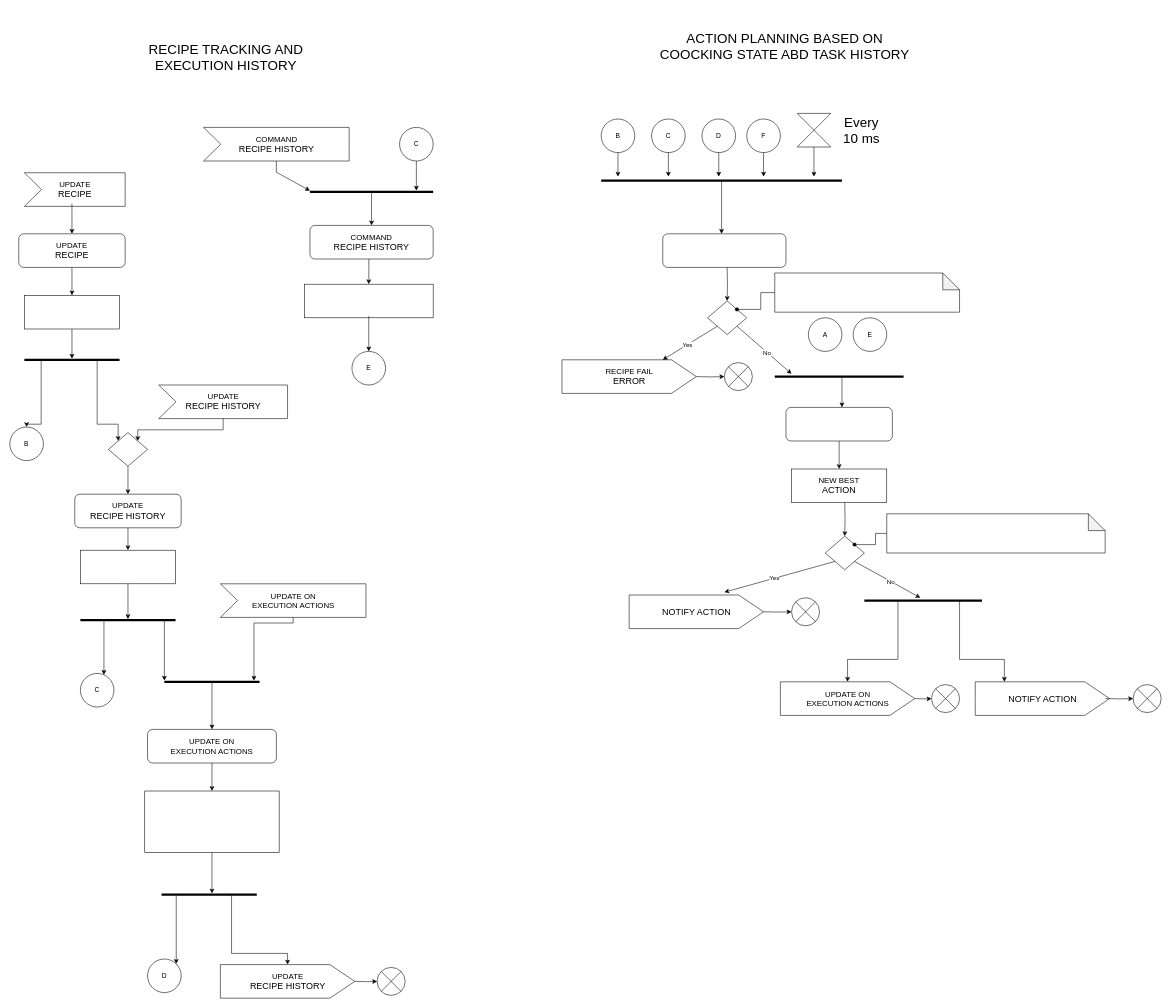
The diagram is 1171 pixels wide and 1008 high, and some of its shapes have lost their labels. The box of each missing label's shape, as (x1, y1, x2, y2) in pixels:
<<DATA STORE>> NEW RECIPE HISTORY: (304, 284, 433, 318)
<<DATA STORE>> ON EXECUTION ACTIONS: (144, 790, 279, 853)
<<DATA STORE>> RECIPE: (24, 295, 120, 329)
<<DATA STORE>> RECIPE HISTORY: (80, 550, 176, 584)
<<DECISION INPUT>> isRecipeFailed(recipeState): (774, 272, 960, 312)
<<DECISION INPUT>> isRecipeFinished(newBestAction): (886, 513, 1105, 553)
UNEXPECTED CONDITION CHEK: (662, 233, 786, 267)
UPDATE BEST ACTION: (785, 407, 892, 441)
